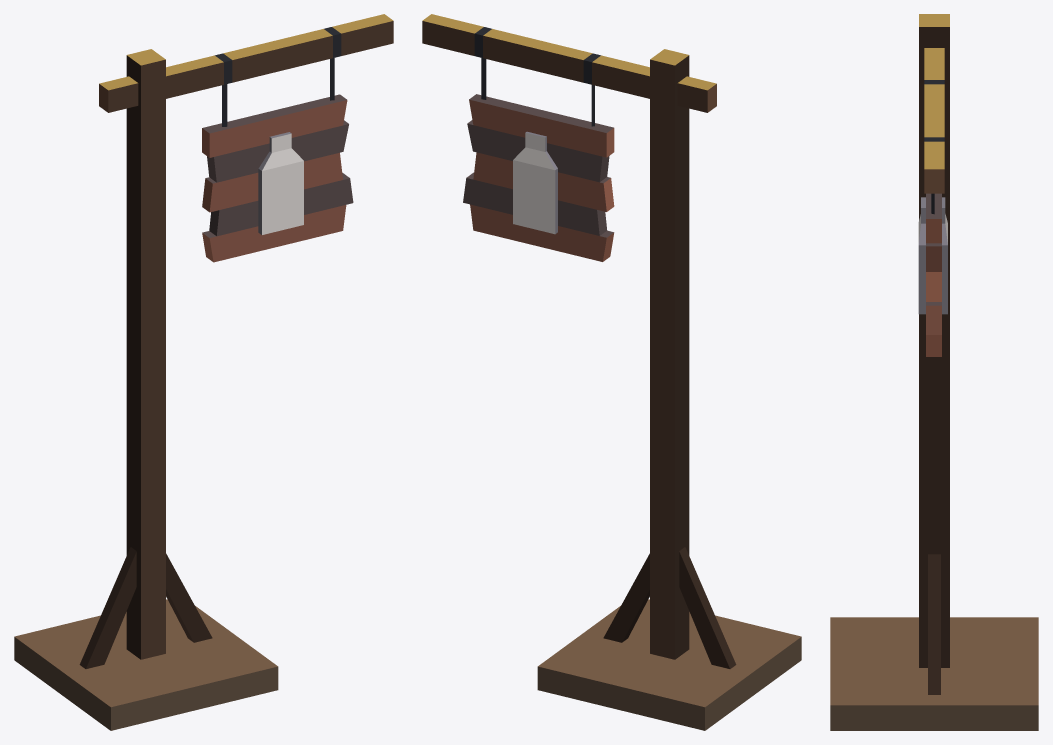
File: TB_D_Prop_Sign_Store_Tool_B.FBX
3 views of the same model, side by side, from view 1: azimuth 30°, elevation 25°; view 2: azimuth 150°, elevation 25°; view 3: azimuth 270°, elevation 25° (orthographic). The views are drawn at different scales.
Visible parts, largest first — view 1: TB_D_Prop_Sign_Store_Tool_B; view 2: TB_D_Prop_Sign_Store_Tool_B; view 3: TB_D_Prop_Sign_Store_Tool_B.
Boxes of the visible parts, x1,y1,x2,y2 form: TB_D_Prop_Sign_Store_Tool_B: (14, 14, 393, 730); TB_D_Prop_Sign_Store_Tool_B: (422, 14, 801, 730); TB_D_Prop_Sign_Store_Tool_B: (830, 14, 1038, 730).
Bounding box in the file's own units: 1.57 × 2.84 × 0.8046.
